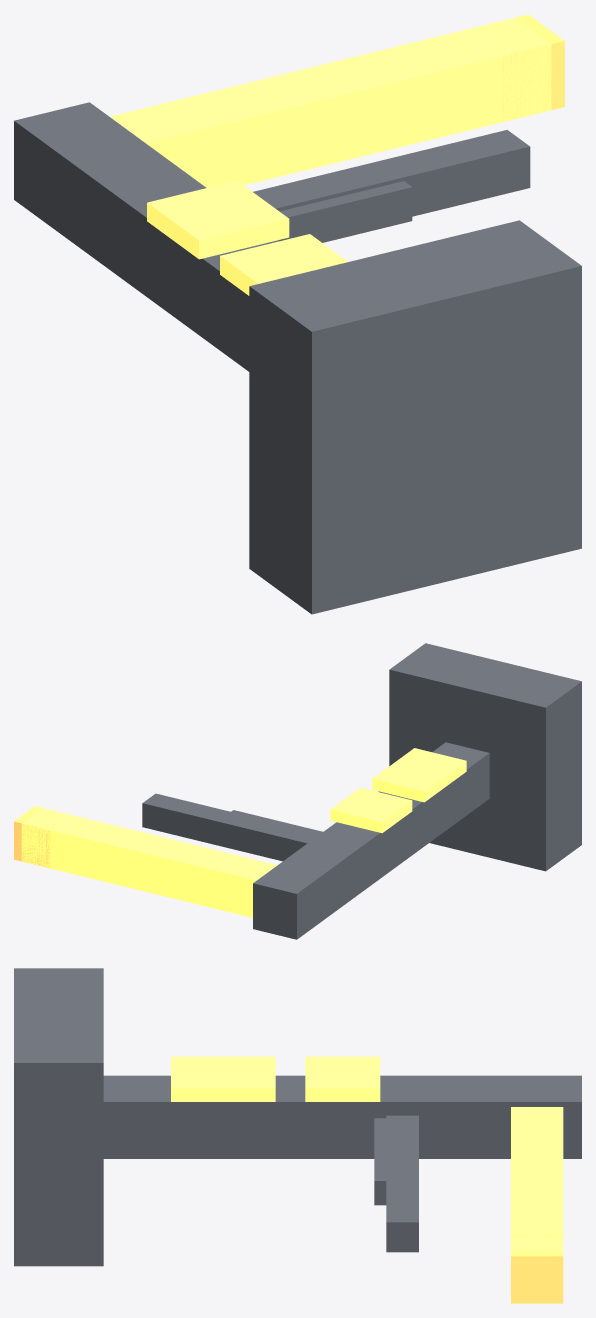
The model's file is interact_hazard_yard.glb.
The picture shows the model from 3 angles, top to bottom: view 1: azimuth 30°, elevation 25°; view 2: azimuth 150°, elevation 25°; view 3: azimuth 270°, elevation 25°; orthographic projection. The views are drawn at different scales.
Visible parts, largest first — view 1: interact_hazard_yard; view 2: interact_hazard_yard; view 3: interact_hazard_yard.
Part boxes in pixels (x1,y1,x2,y2): interact_hazard_yard: (14, 14, 581, 614); interact_hazard_yard: (14, 643, 581, 939); interact_hazard_yard: (14, 968, 581, 1303).
Size of the model in its own units: 3.33 by 1.5 by 3.8.
